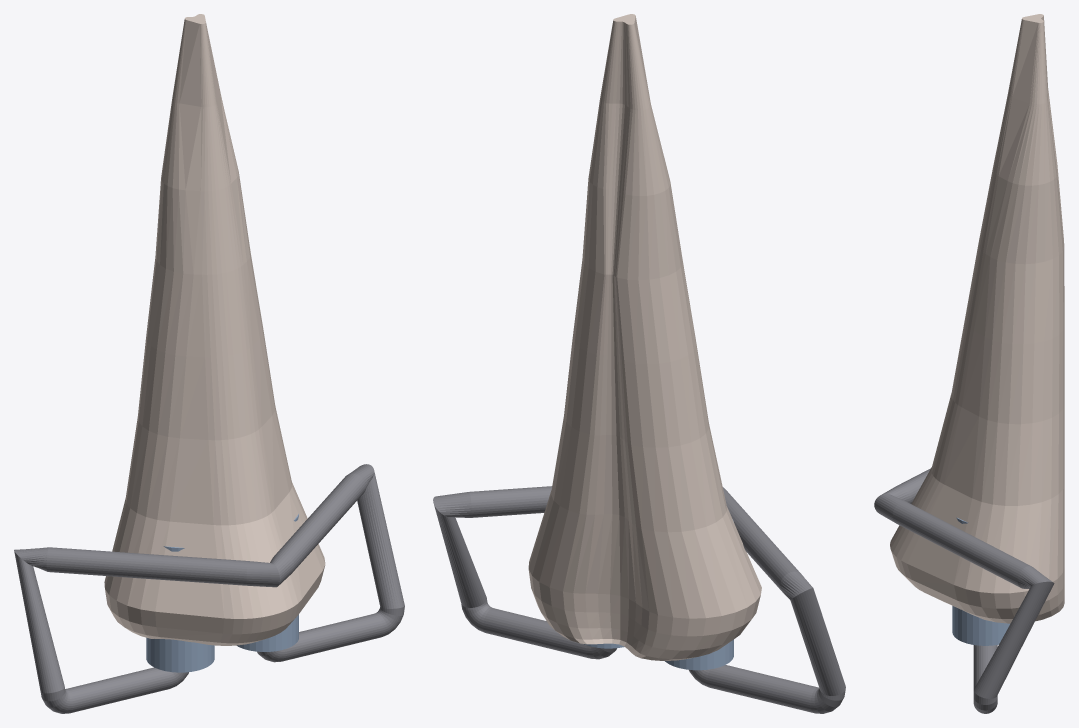
File: candidate_balanced.glb
The picture shows the model from 3 angles, left to right: view 1: azimuth 30°, elevation 25°; view 2: azimuth 150°, elevation 25°; view 3: azimuth 270°, elevation 25°; orthographic projection. The views are drawn at different scales.
Parts seen in each view (by area): view 1: body, frame, plug_left, plug_right; view 2: body, frame, plug_left; view 3: body, frame, plug_right.
Part boxes in pixels (box(x1,y1,x2,y2)): body: box(104, 14, 325, 645); frame: box(14, 464, 404, 713); plug_left: box(146, 546, 214, 672); plug_right: box(237, 514, 298, 651); body: box(528, 14, 761, 660); frame: box(433, 486, 845, 713); plug_left: box(665, 519, 733, 670); body: box(890, 14, 1064, 623); frame: box(874, 468, 1054, 713); plug_right: box(952, 517, 1009, 645).
Size of the model in its own units: 36.43 by 61.38 by 17.1.
